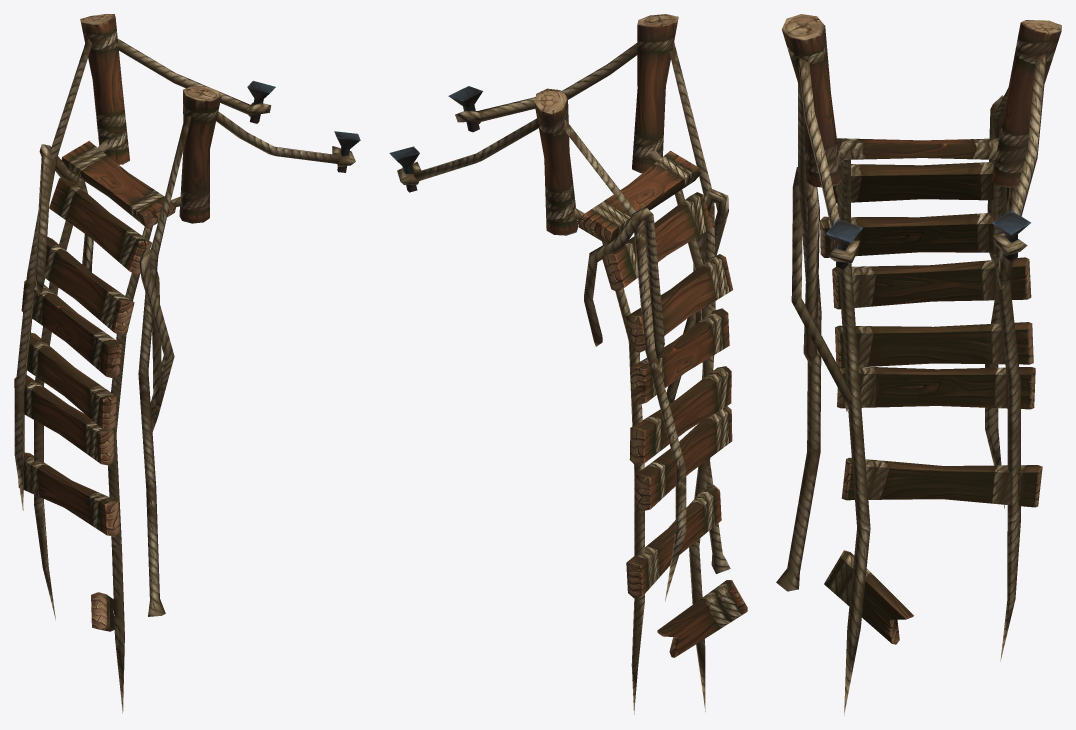
File: Brkn Bridge 2.fbx
3 views of the same model, side by side, from view 1: azimuth 30°, elevation 25°; view 2: azimuth 150°, elevation 25°; view 3: azimuth 270°, elevation 25° (orthographic). The views are drawn at different scales.
Visible parts, largest first — view 1: rope_bridge_ruin_l_01_rope_bridge_0; view 2: rope_bridge_ruin_l_01_rope_bridge_0; view 3: rope_bridge_ruin_l_01_rope_bridge_0.
Part boxes in pixels (x1,y1,x2,y2): rope_bridge_ruin_l_01_rope_bridge_0: [14, 14, 360, 713]; rope_bridge_ruin_l_01_rope_bridge_0: [389, 14, 747, 714]; rope_bridge_ruin_l_01_rope_bridge_0: [776, 14, 1061, 715].
Size of the model in its own units: 2460 by 5179 by 1842.
